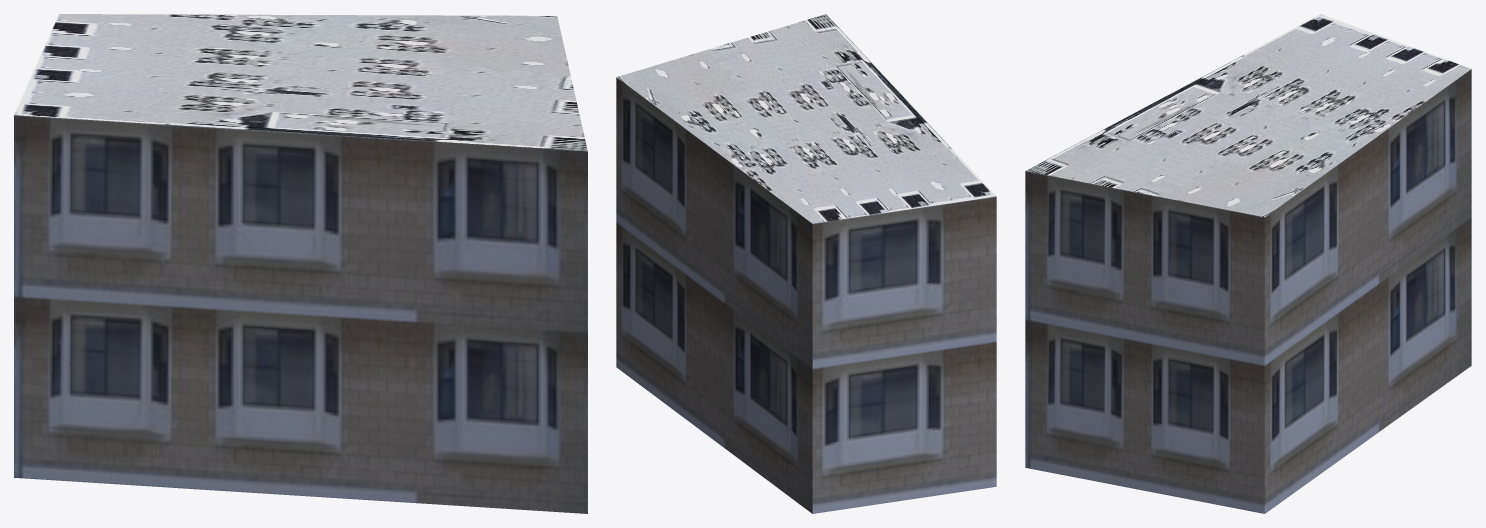
The model's file is ResTex__1358.fbx.
3 views of the same model, side by side, from view 1: azimuth 30°, elevation 25°; view 2: azimuth 150°, elevation 25°; view 3: azimuth 270°, elevation 25° (orthographic). The views are drawn at different scales.
Parts seen in each view (by area): view 1: CityEngineMaterial_3_m, CityEngineMaterial_4_m; view 2: CityEngineMaterial_3_m, CityEngineMaterial_4_m; view 3: CityEngineMaterial_3_m, CityEngineMaterial_4_m.
Part boxes in pixels (x1,y1,x2,y2): CityEngineMaterial_3_m: (14, 115, 587, 513); CityEngineMaterial_4_m: (14, 14, 587, 151); CityEngineMaterial_3_m: (616, 77, 996, 513); CityEngineMaterial_4_m: (616, 14, 996, 223); CityEngineMaterial_3_m: (1025, 69, 1471, 513); CityEngineMaterial_4_m: (1026, 14, 1470, 217).
Bounding box in the file's own units: 8.81 × 6 × 8.18.
Materials: 2 (2 with a texture image).
